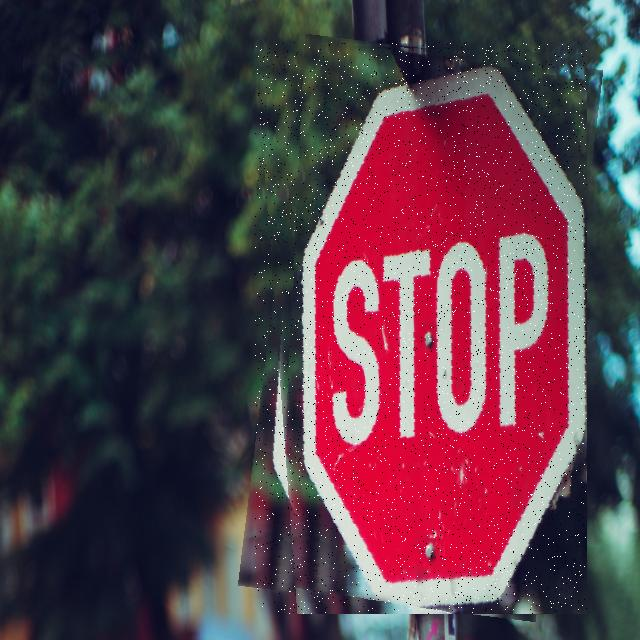stop: (255, 42, 587, 614)
